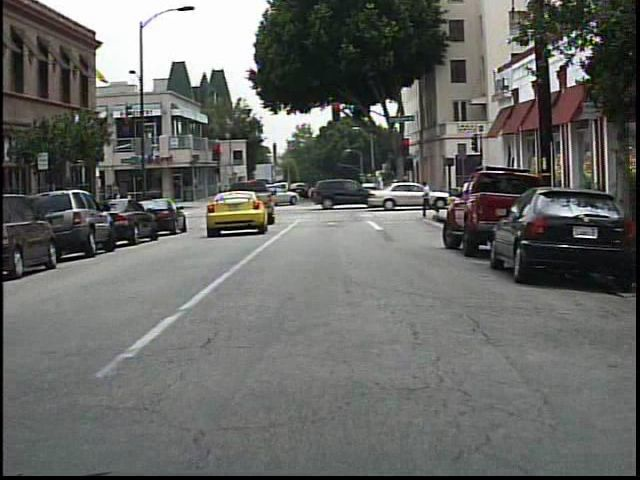person: (418, 177, 441, 221)
